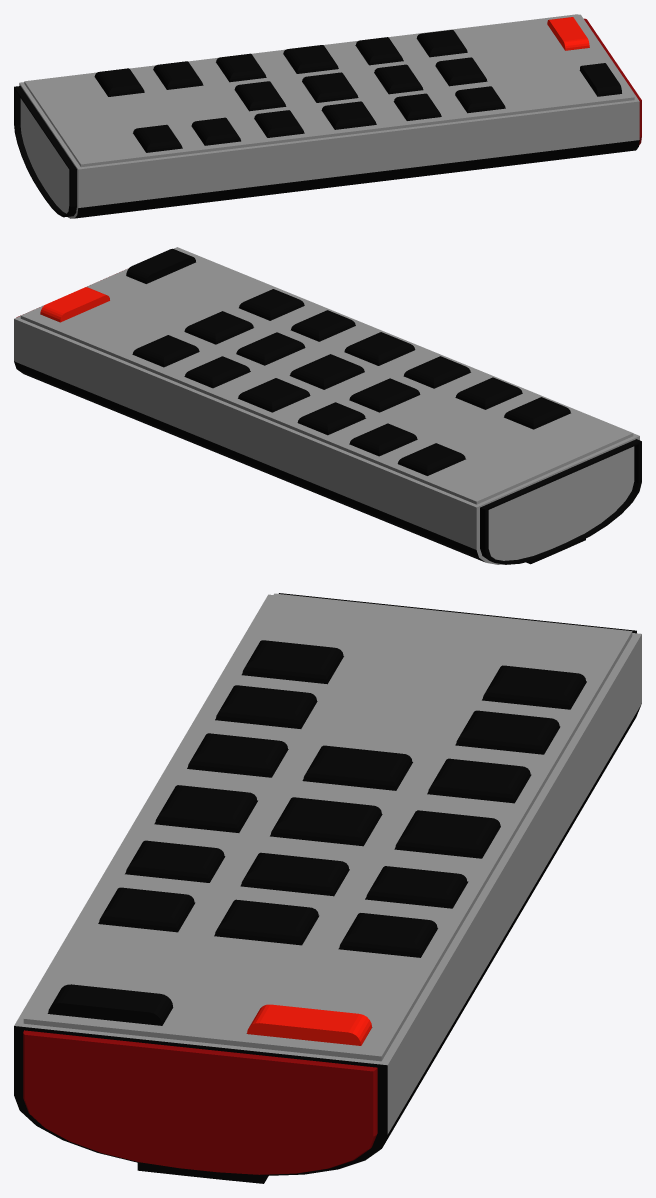
File: TV_Remote.fbx
3 renders of one model, top to bottom at view 1: azimuth 30°, elevation 25°; view 2: azimuth 150°, elevation 25°; view 3: azimuth 270°, elevation 25°, orthographic. The views are drawn at different scales.
Visible parts, largest first — view 1: Base; view 2: Base; view 3: Base.
Part boxes in pixels (x1=…): Base: x1=14, y1=14, x2=641, y2=218; Base: x1=14, y1=247, x2=641, y2=564; Base: x1=14, y1=593, x2=641, y2=1183.
Size of the model in its own units: 159 by 23.08 by 88.23.
